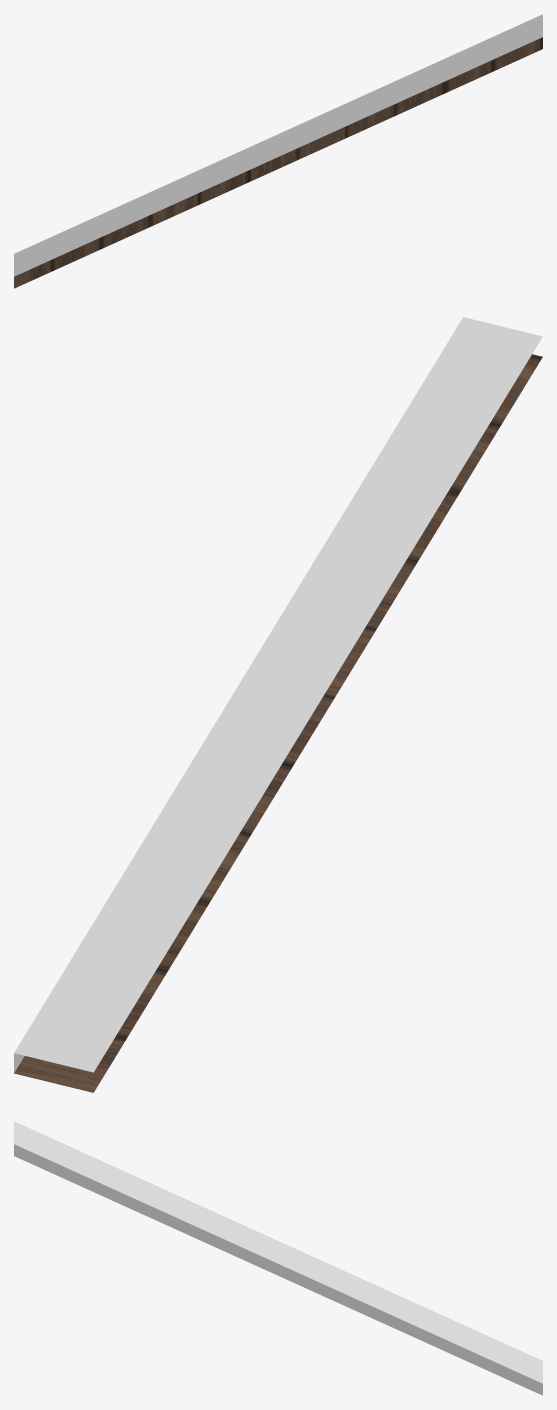
Rendered from Roof_3mH_Side_A.fbx.
The picture shows the model from 3 angles, top to bottom: view 1: azimuth 90°, elevation 25°; view 2: azimuth 150°, elevation 25°; view 3: azimuth 270°, elevation 25°; orthographic projection. The views are drawn at different scales.
Visible parts, largest first — view 1: Roof_3mH_Side_A; view 2: Roof_3mH_Side_A; view 3: Roof_3mH_Side_A.
Part boxes in pixels (x1,y1,x2,y2): Roof_3mH_Side_A: [14, 14, 542, 288]; Roof_3mH_Side_A: [14, 317, 542, 1092]; Roof_3mH_Side_A: [14, 1121, 542, 1395].
Size of the model in its own units: 0.6144 by 6 by 3.15.
